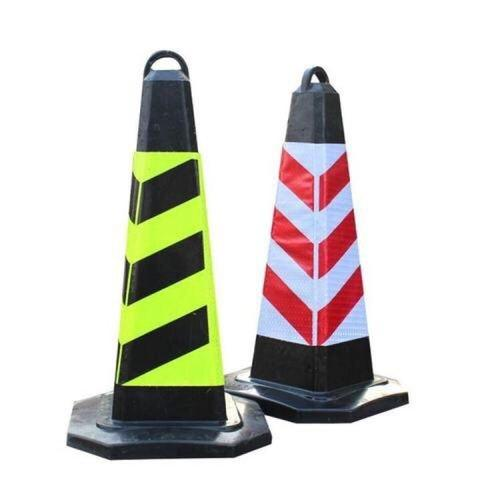cone_barrel: (77, 58, 242, 443), (228, 68, 396, 417)
